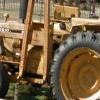Tractor: (5, 12, 100, 90)
